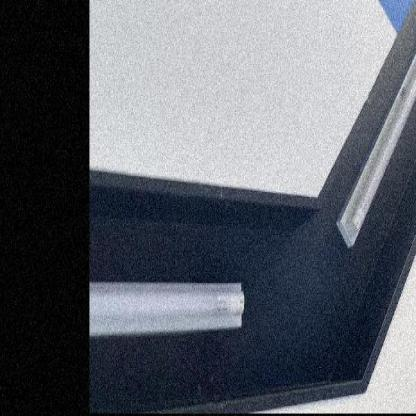light_off: (324, 0, 416, 260), (91, 218, 252, 365)
